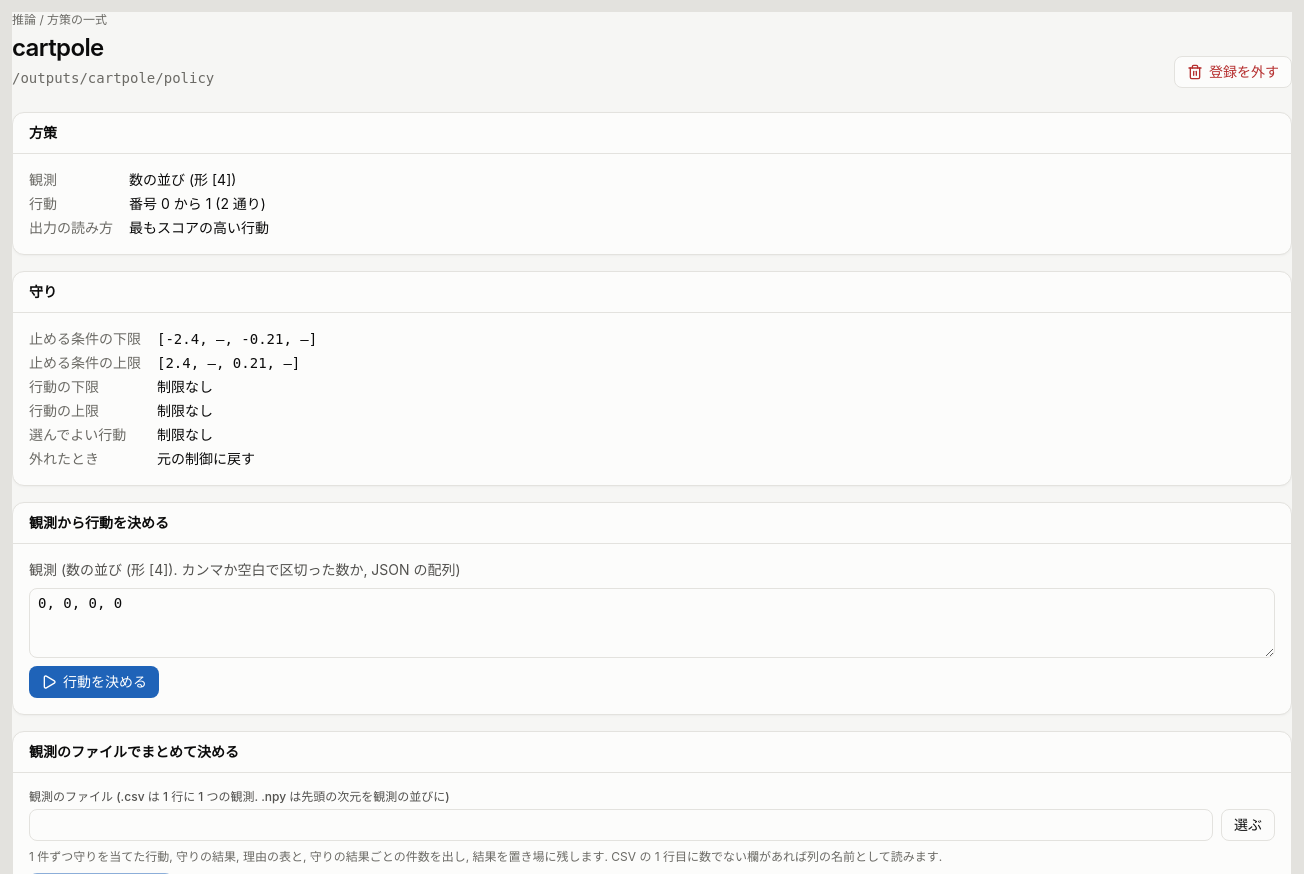
Test: 方策の一式の画面 › 観測を書き換えると前の結果を消し, 数でない観測は送らずに誤りを出す
Click the button "行動を決める" at (94, 682), box [29,666,159,698]
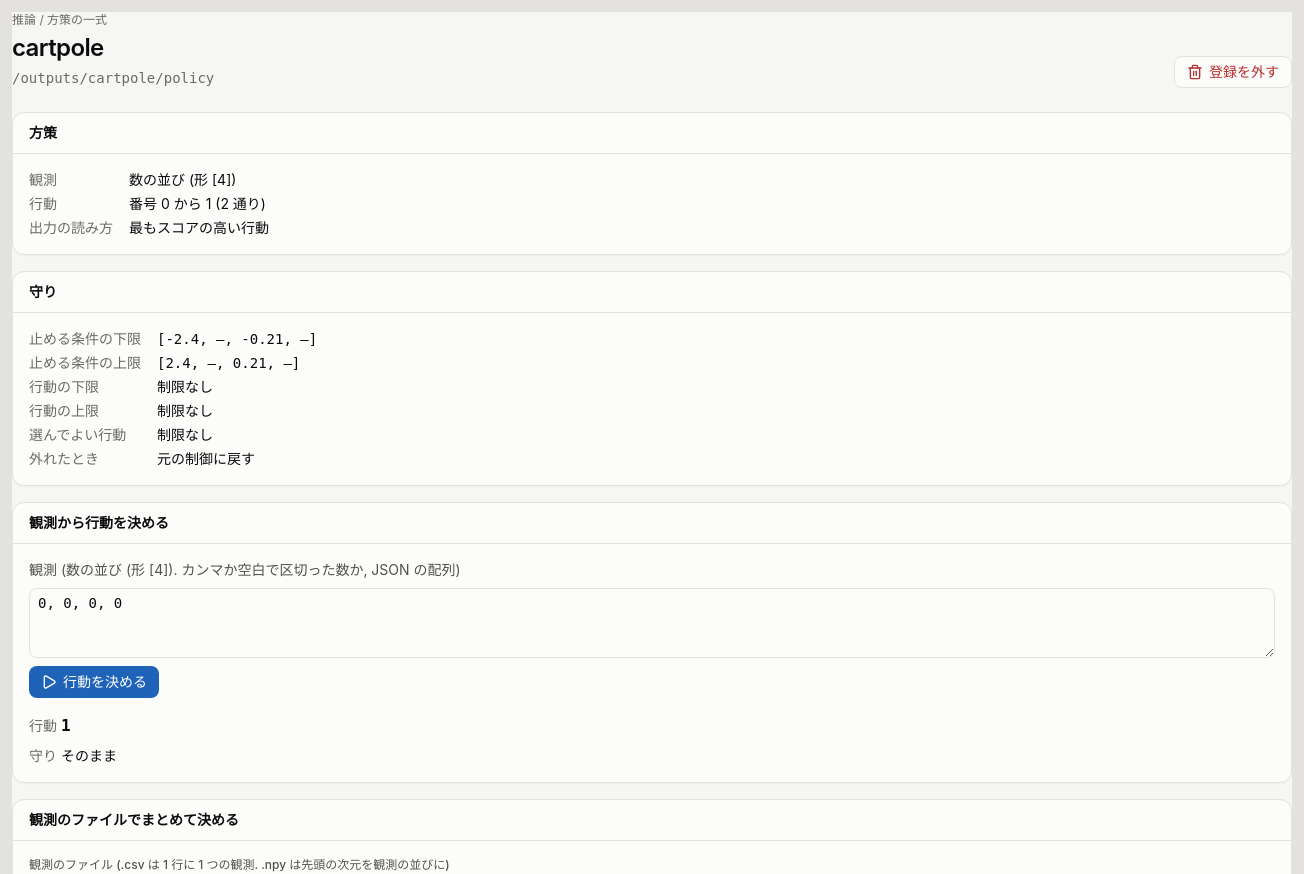
Expected: the text "そのまま" is shown, [61,747,117,764]
Replace the text in the text box labelled "観測 (数の並び (形 [4]). カンマか空白で区切った数か, JSON の配列)" with "1, x" at (652, 623), box [29,588,1275,658]
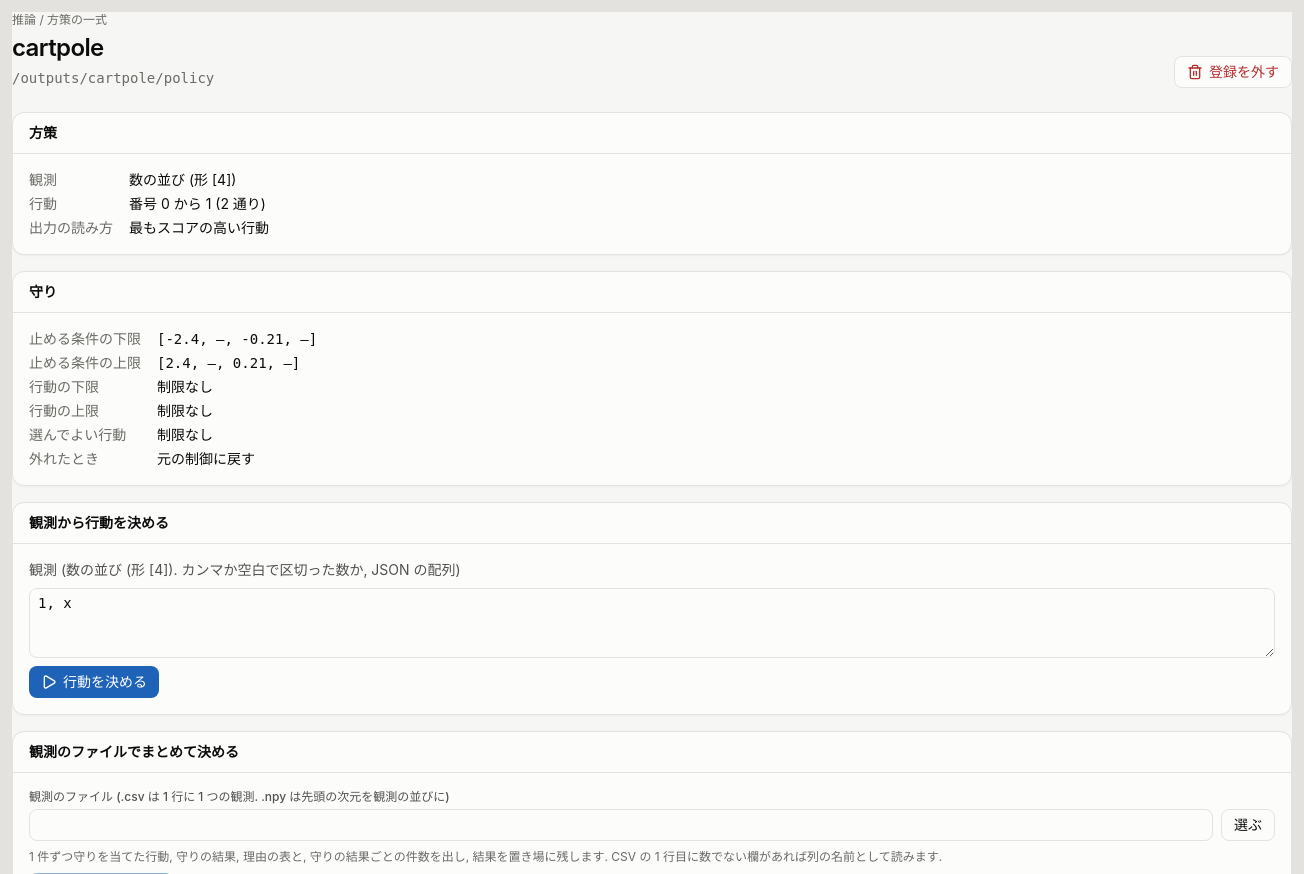
Expected: the text "そのまま" is gone
Click the button "行動を決める" at (94, 682), box [29,666,159,698]
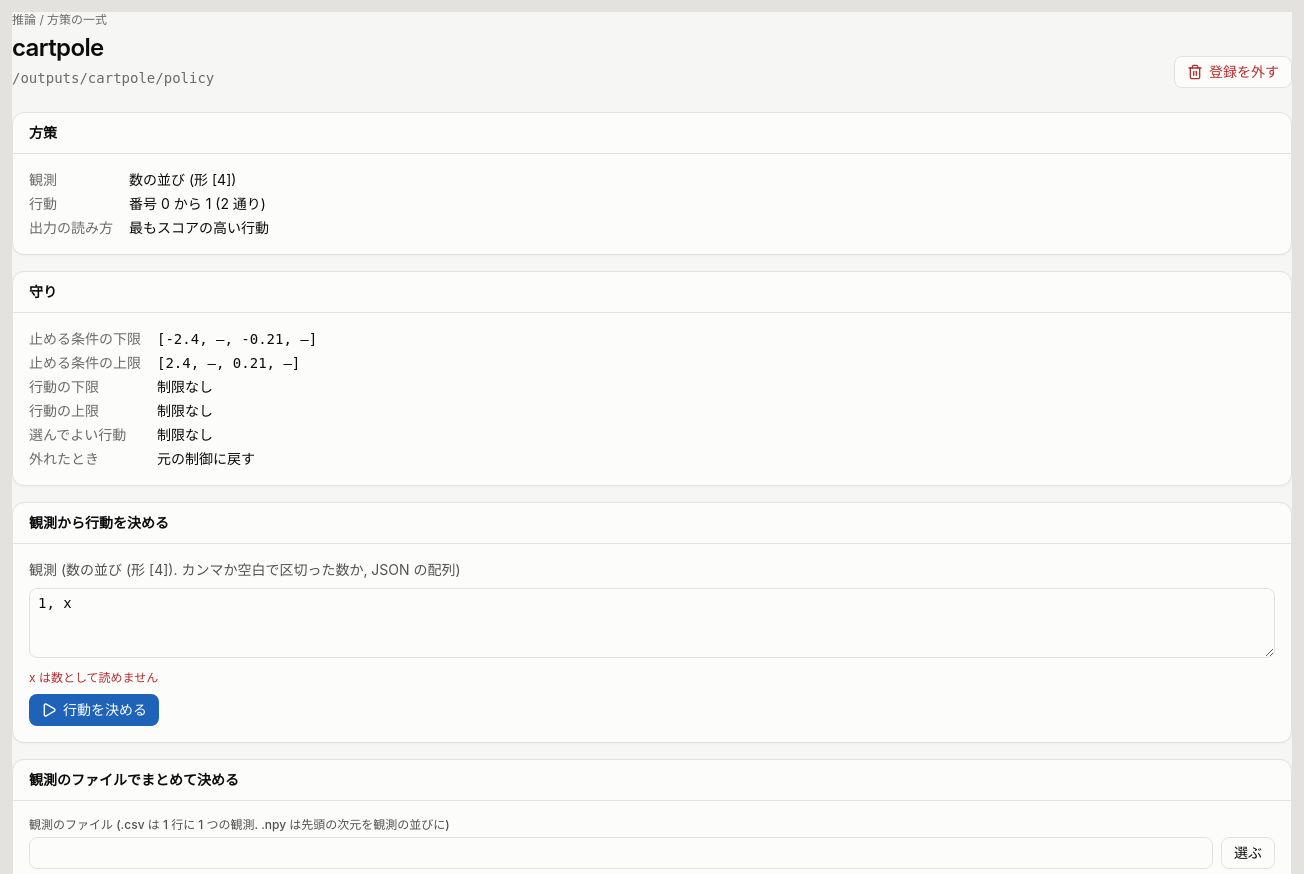
Expected: the text "x は数として読めません" is shown, [29,670,158,685]
